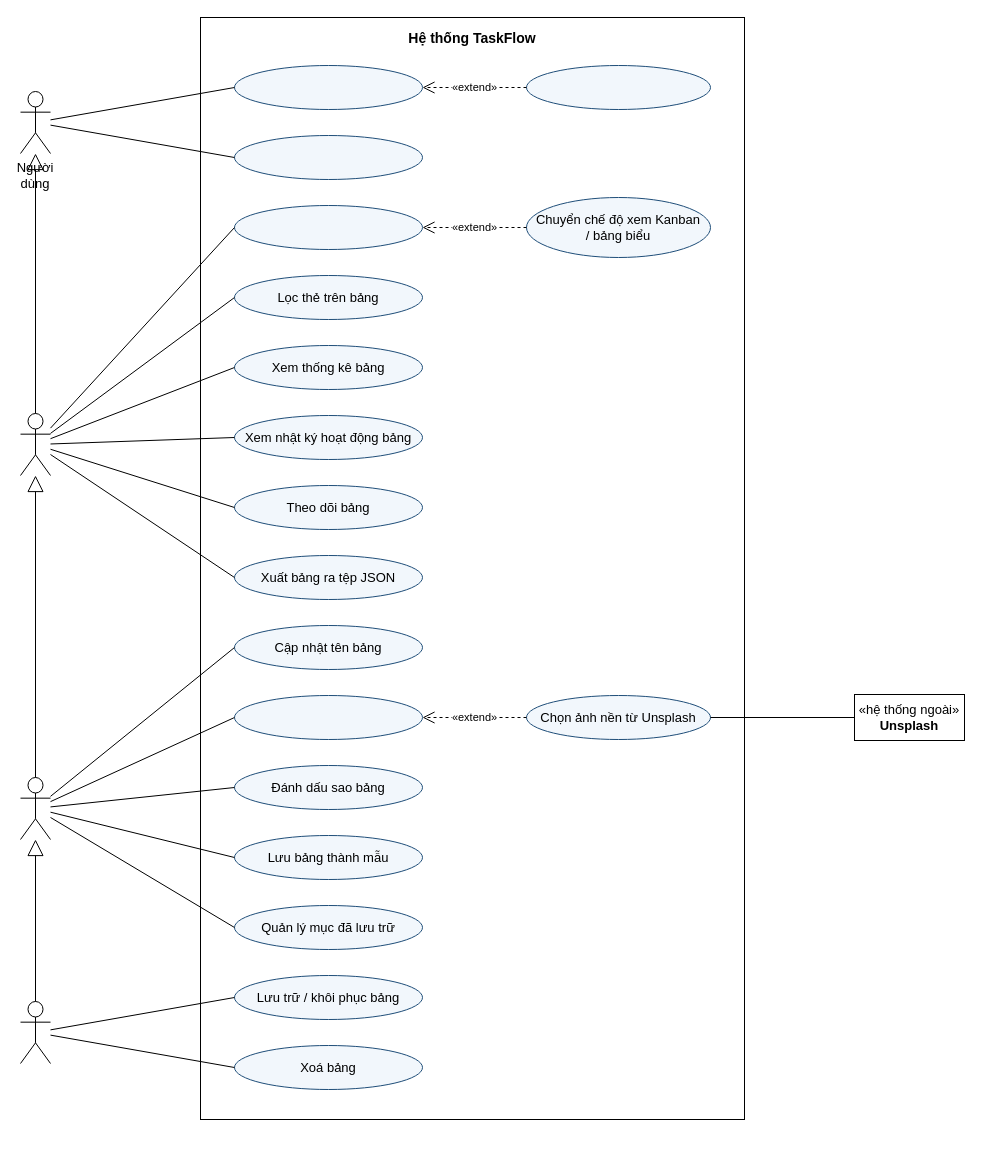
This 982x1150 diagram has some shape labels left out. Here are the shapes that lost their labels. From the top down, the centre of each, then its label:
At [328,87]: "Tạo bảng mới".
At [618,87]: "Tạo bảng từ mẫu".
At [328,157]: "Xem danh sách bảng".
At [328,227]: "Xem nội dung bảng".
At [35,444]: "Người xem bảng".
At [328,717]: "Thay đổi hình nền bảng".
At [35,808]: "Thành viên bảng".
At [35,1032]: "Chủ sở hữu bảng".
